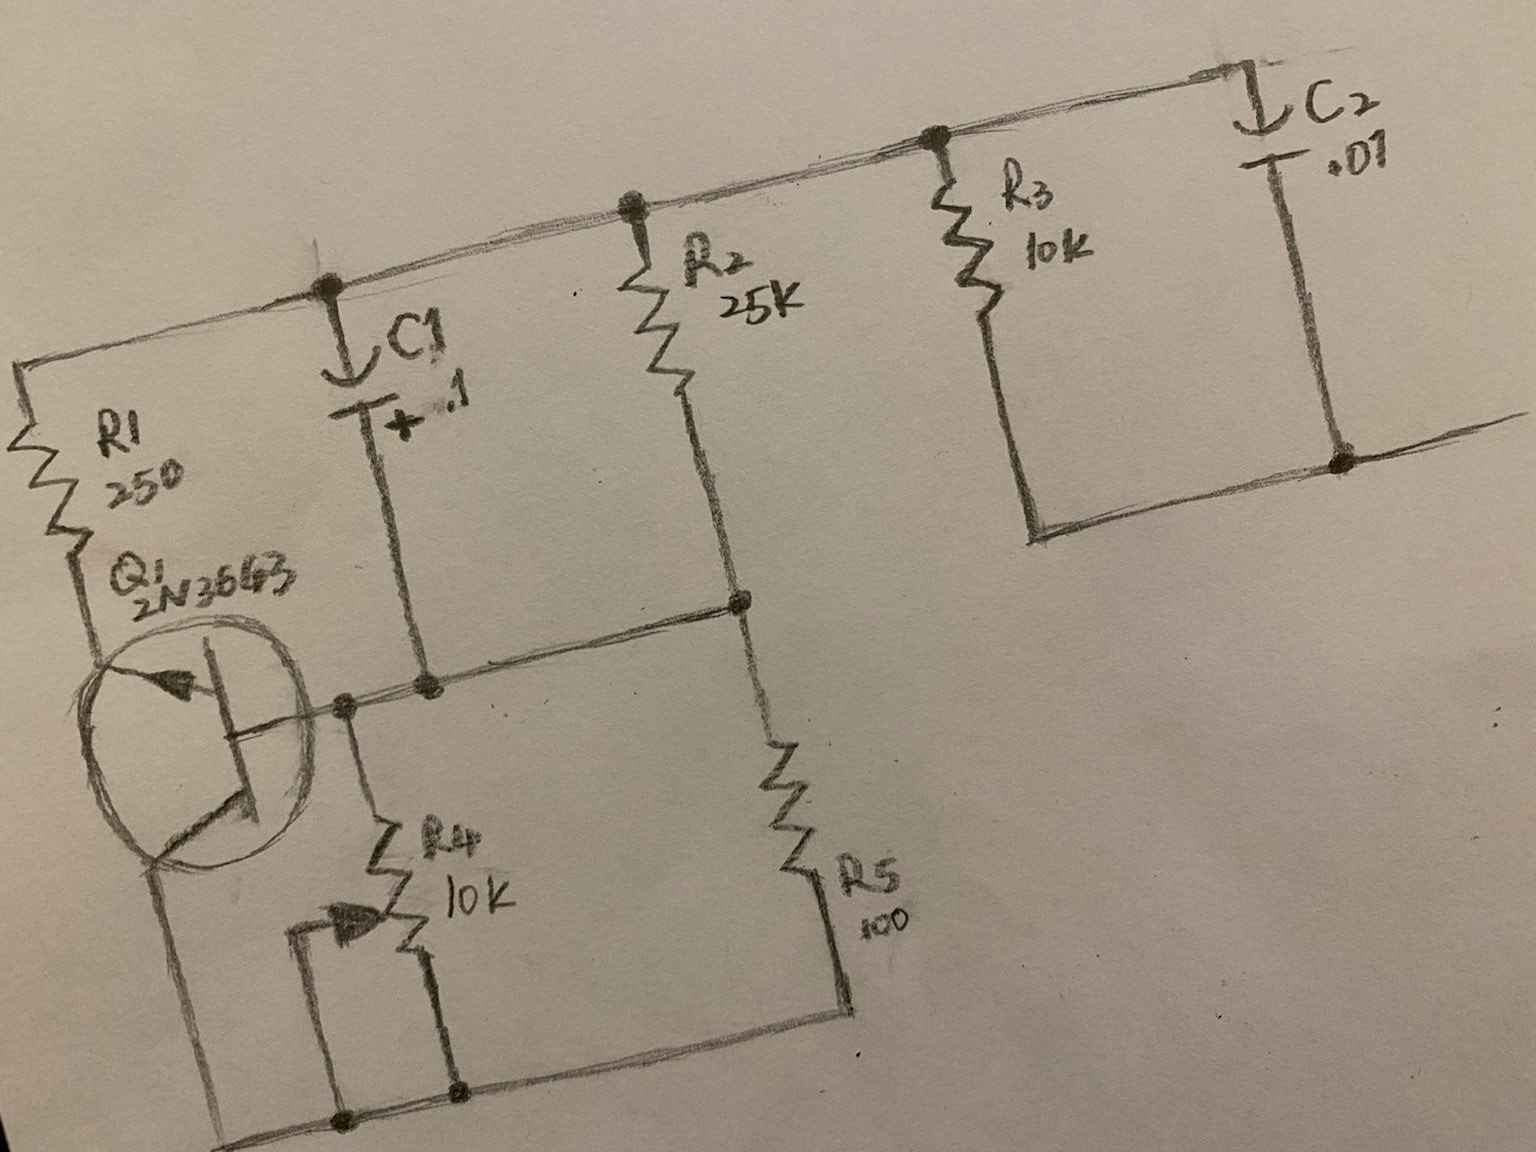capacitor.polarized: (317, 342, 428, 444)
capacitor.unpolarized: (1230, 106, 1307, 169)
junction: (295, 254, 360, 312), (312, 1094, 380, 1147), (1313, 431, 1373, 491), (606, 180, 668, 234), (1014, 508, 1066, 565), (822, 981, 872, 1038), (432, 1069, 490, 1117), (905, 111, 963, 156), (403, 663, 454, 709), (712, 578, 763, 624), (204, 1121, 276, 1152), (2, 345, 50, 388), (1229, 41, 1271, 87), (321, 685, 366, 725), (272, 915, 314, 955)
resistor: (5, 417, 94, 561), (604, 266, 689, 404), (924, 177, 1001, 324), (755, 732, 821, 881)
resistor.adjustable: (324, 814, 439, 967)
terminal: (1473, 391, 1536, 443)
text: (129, 551, 298, 624), (721, 281, 807, 334), (1327, 126, 1401, 188), (681, 227, 753, 288), (104, 460, 189, 509), (1304, 73, 1382, 125), (383, 305, 454, 361), (414, 810, 489, 860), (441, 871, 521, 918), (832, 846, 907, 895), (1024, 224, 1098, 272), (89, 402, 150, 460), (998, 154, 1057, 212), (106, 549, 164, 597), (435, 367, 481, 415), (856, 905, 917, 941)
transistor: (50, 618, 317, 869)
